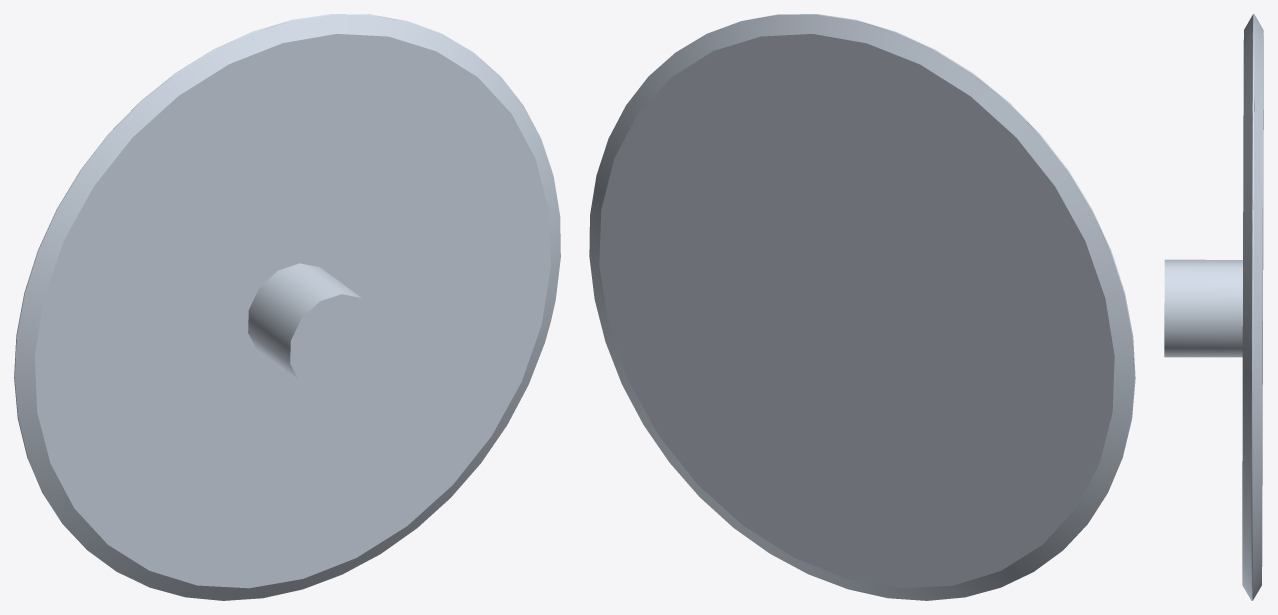
File: RB-041_viewer.glb
3 views of the same model, side by side, from view 1: azimuth 30°, elevation 25°; view 2: azimuth 150°, elevation 25°; view 3: azimuth 270°, elevation 25° (orthographic). The views are drawn at different scales.
Visible parts, largest first — view 1: basebody_imported1; view 2: basebody_imported1; view 3: basebody_imported1.
Boxes of the visible parts, left/top/right/bottom form: basebody_imported1: left=14, top=14, right=560, bottom=600; basebody_imported1: left=589, top=14, right=1135, bottom=600; basebody_imported1: left=1164, top=14, right=1263, bottom=600.
Bounding box in the file's own units: 0.0177 × 0.0177 × 0.00299.
